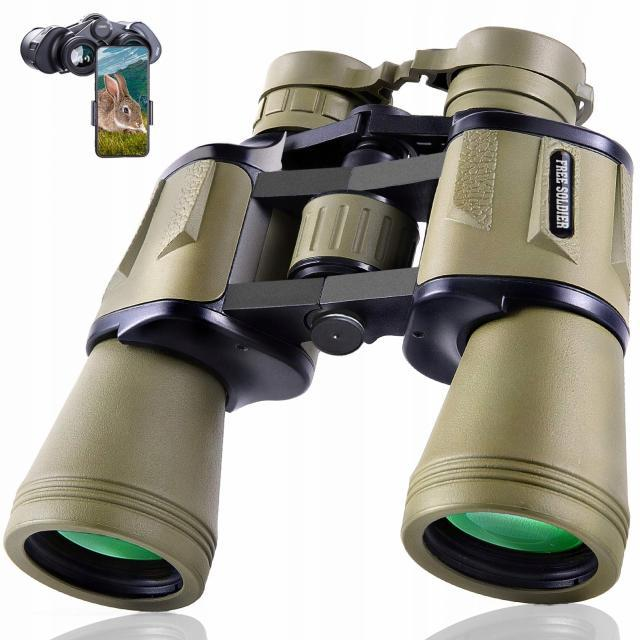Binocular: (4, 26, 634, 616)
